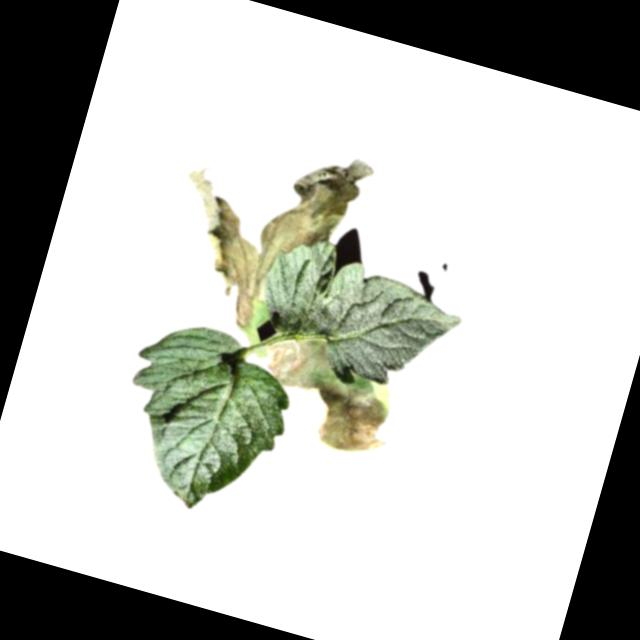Late_blight: (149, 114, 379, 357), (244, 326, 409, 463)
healthy: (100, 310, 305, 528), (244, 229, 473, 412)
